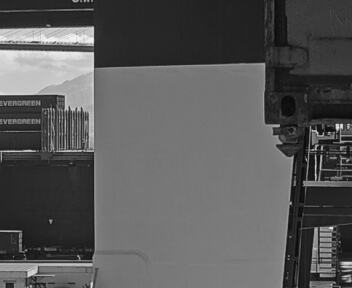twist_lock_2: (250, 117, 297, 164)
